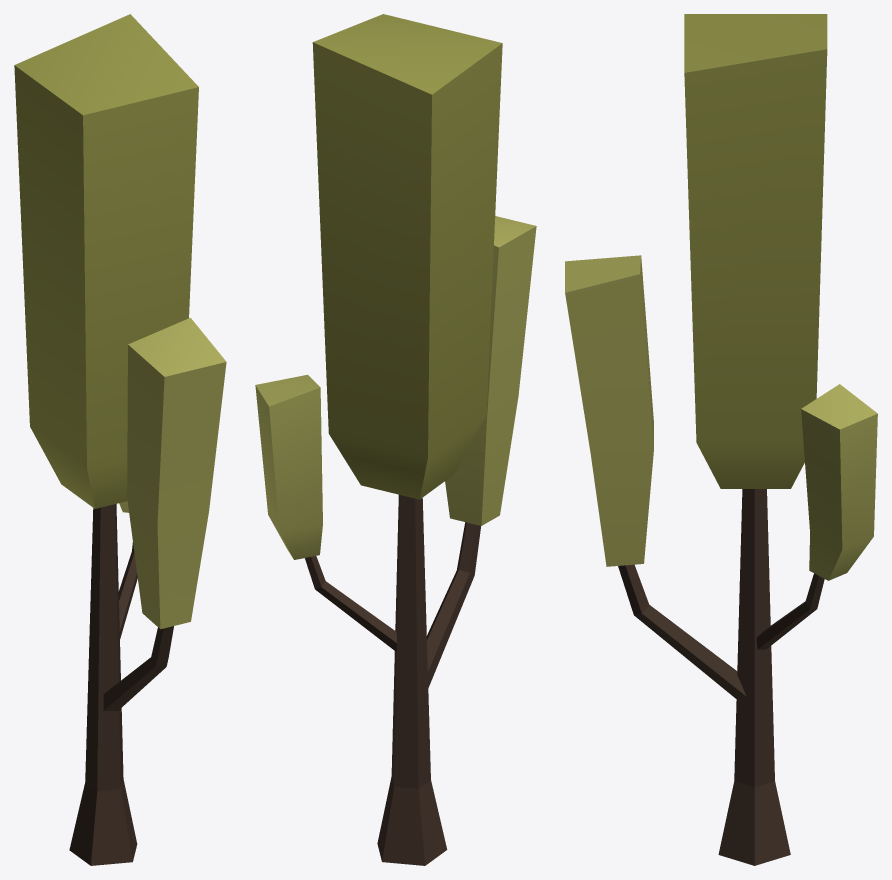
Rendered from Tree6_c_LP_LOD0.FBX.
3 views of the same model, side by side, from view 1: azimuth 30°, elevation 25°; view 2: azimuth 150°, elevation 25°; view 3: azimuth 270°, elevation 25° (orthographic). The views are drawn at different scales.
Parts seen in each view (by area): view 1: Tree6_c_LP_LOD0; view 2: Tree6_c_LP_LOD0; view 3: Tree6_c_LP_LOD0.
Part boxes in pixels (<box>): Tree6_c_LP_LOD0: <box>14,14,226,865</box>; Tree6_c_LP_LOD0: <box>255,14,536,865</box>; Tree6_c_LP_LOD0: <box>565,14,877,865</box>.
Bounding box in the file's own units: 4.13 × 18.97 × 6.47.
